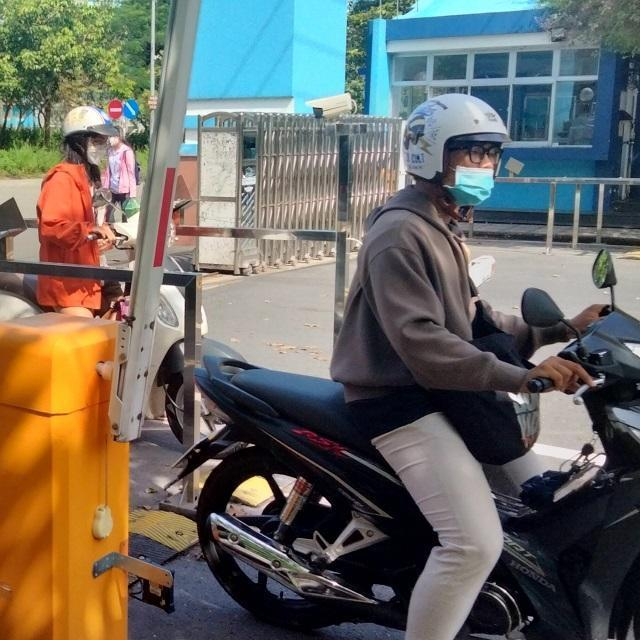Helmet: (398, 88, 512, 204), (61, 106, 115, 162)
